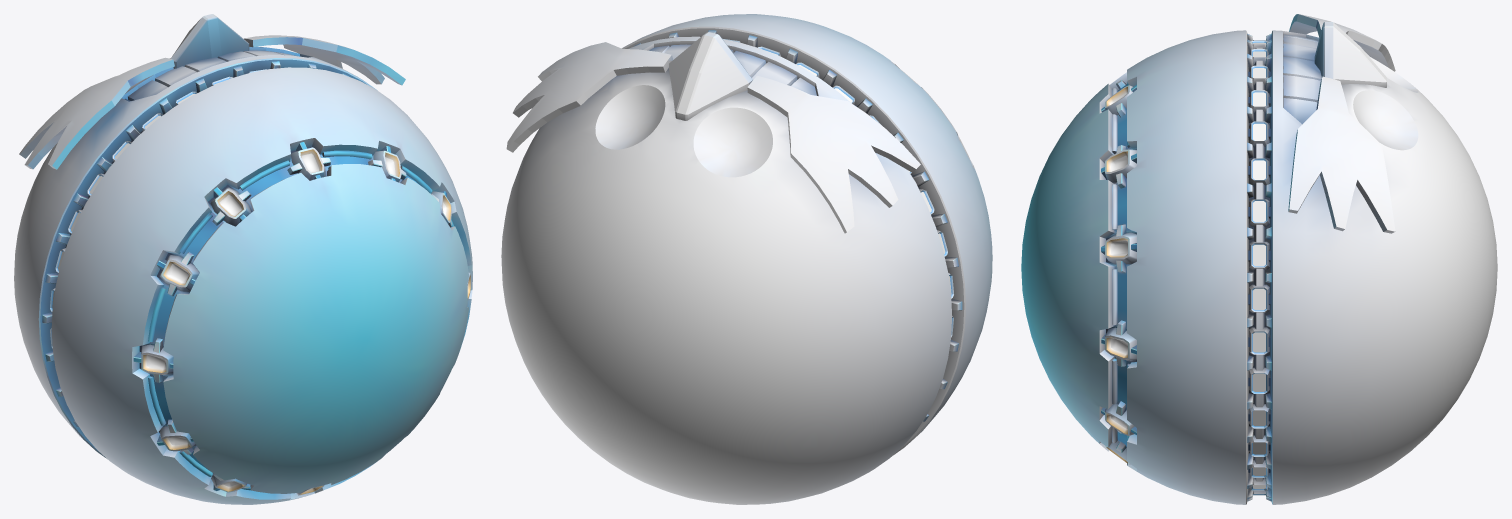
The model's file is eggstar.fbx.
3 views of the same model, side by side, from view 1: azimuth 30°, elevation 25°; view 2: azimuth 150°, elevation 25°; view 3: azimuth 270°, elevation 25° (orthographic). The views are drawn at different scales.
Visible parts, largest first — view 1: ssz_obj_eggstar; view 2: ssz_obj_eggstar; view 3: ssz_obj_eggstar.
Part boxes in pixels (x1,y1,x2,y2): ssz_obj_eggstar: [14, 14, 472, 504]; ssz_obj_eggstar: [501, 14, 992, 504]; ssz_obj_eggstar: [1021, 14, 1497, 504].
Size of the model in its own units: 119 by 120 by 127.
